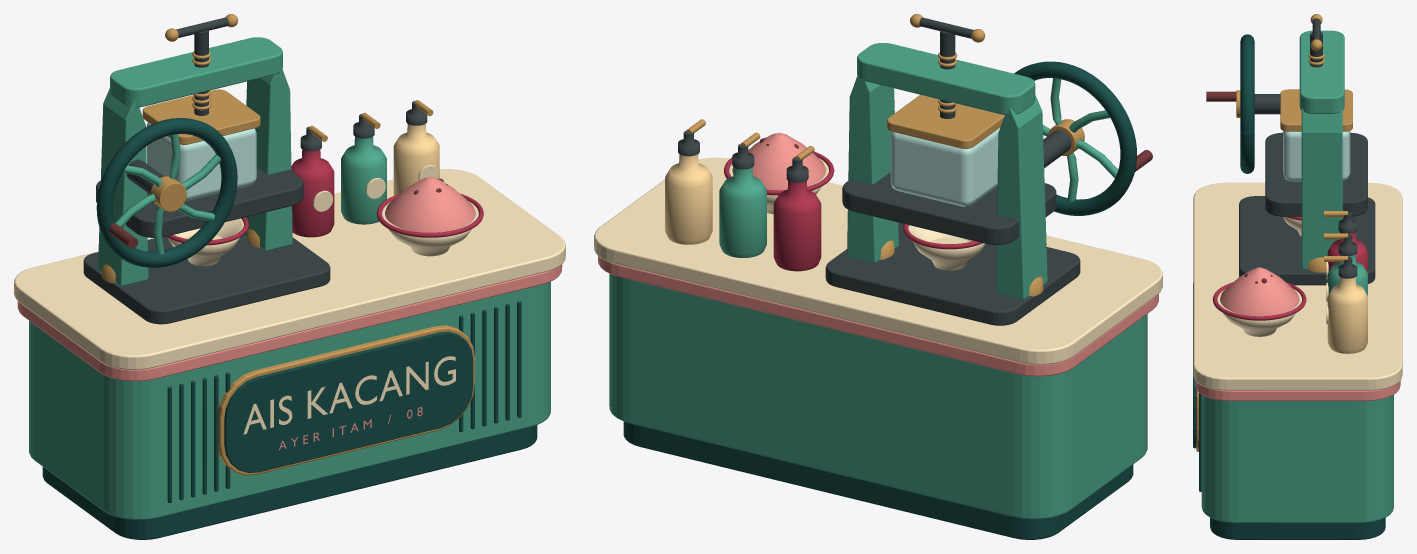
3 views of the same model, side by side, from view 1: azimuth 30°, elevation 25°; view 2: azimuth 150°, elevation 25°; view 3: azimuth 270°, elevation 25° (orthographic). The views are drawn at different scales.
Parts seen in each view (by area): view 1: Ayer Itam | Ais Kacang - Cabinetry, Ayer Itam | Ais Kacang - Graphics, Ayer Itam | Ais Kacang - Turned fittings, Ayer Itam | Ais Kacang - Shaver, Ayer Itam | Ais Kacang - Metalwork, Ayer Itam | Ais Kacang - Counter; view 2: Ayer Itam | Ais Kacang - Cabinetry, Ayer Itam | Ais Kacang - Shaver, Ayer Itam | Ais Kacang - Turned fittings, Ayer Itam | Ais Kacang - Metalwork, Ayer Itam | Ais Kacang - Graphics; view 3: Ayer Itam | Ais Kacang - Cabinetry, Ayer Itam | Ais Kacang - Turned fittings, Ayer Itam | Ais Kacang - Shaver, Ayer Itam | Ais Kacang - Metalwork, Ayer Itam | Ais Kacang - Graphics, Ayer Itam | Ais Kacang - Counter.
Boxes of the visible parts, <box> form: Ayer Itam | Ais Kacang - Cabinetry: <box>14,37,565,539</box>; Ayer Itam | Ais Kacang - Graphics: <box>115,134,474,475</box>; Ayer Itam | Ais Kacang - Turned fittings: <box>102,51,483,283</box>; Ayer Itam | Ais Kacang - Shaver: <box>98,66,292,286</box>; Ayer Itam | Ais Kacang - Metalwork: <box>96,17,433,267</box>; Ayer Itam | Ais Kacang - Counter: <box>167,301,521,502</box>; Ayer Itam | Ais Kacang - Cabinetry: <box>594,43,1162,539</box>; Ayer Itam | Ais Kacang - Shaver: <box>847,72,1047,299</box>; Ayer Itam | Ais Kacang - Turned fittings: <box>665,52,1043,296</box>; Ayer Itam | Ais Kacang - Metalwork: <box>686,17,1152,215</box>; Ayer Itam | Ais Kacang - Graphics: <box>1042,78,1118,202</box>; Ayer Itam | Ais Kacang - Cabinetry: <box>1193,30,1402,539</box>; Ayer Itam | Ais Kacang - Turned fittings: <box>1212,53,1367,353</box>; Ayer Itam | Ais Kacang - Shaver: <box>1283,106,1350,269</box>; Ayer Itam | Ais Kacang - Metalwork: <box>1206,18,1347,261</box>; Ayer Itam | Ais Kacang - Graphics: <box>1193,90,1328,451</box>; Ayer Itam | Ais Kacang - Counter: <box>1199,393,1201,491</box>.
Bounding box in the file's own units: 2.49 × 2.31 × 1.13.
